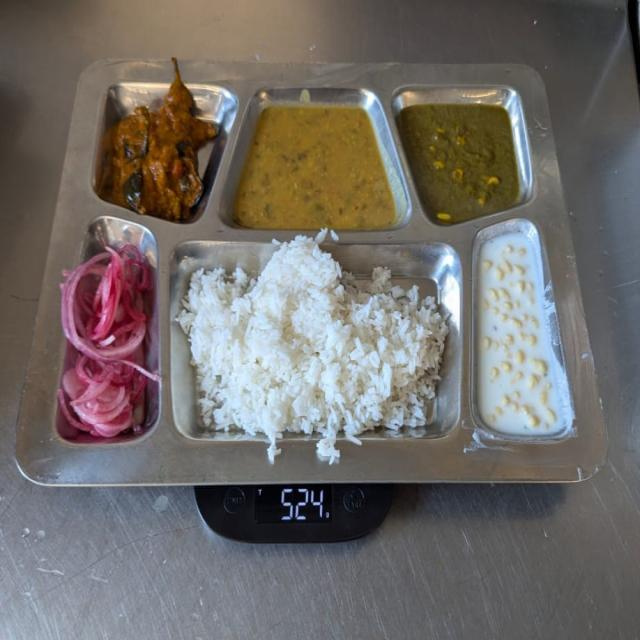Baigan Sabji: (108, 82, 223, 217)
Dal: (231, 100, 400, 233)
Palak Corn: (475, 226, 575, 435)
Raita: (402, 100, 521, 224)
Salad: (57, 232, 156, 442)
White Rice: (177, 235, 449, 438)
